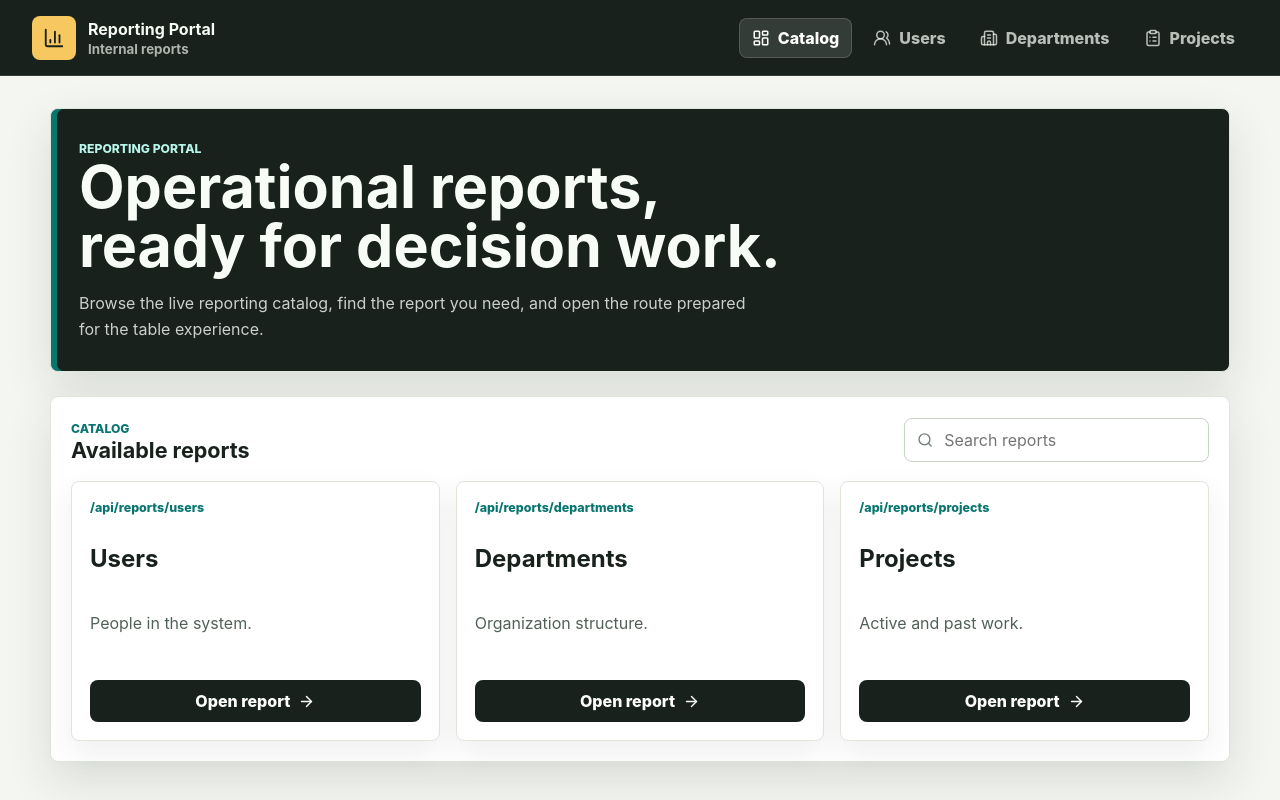
Test: AppShell › shows a useful state when no reports match the search
Expected: the heading "Users" is shown, top-left (90, 544), bottom-right (158, 573)
Type "finance" into the search field named "Search reports by name" at (1069,440), box top-left (942, 419), bottom-right (1196, 461)
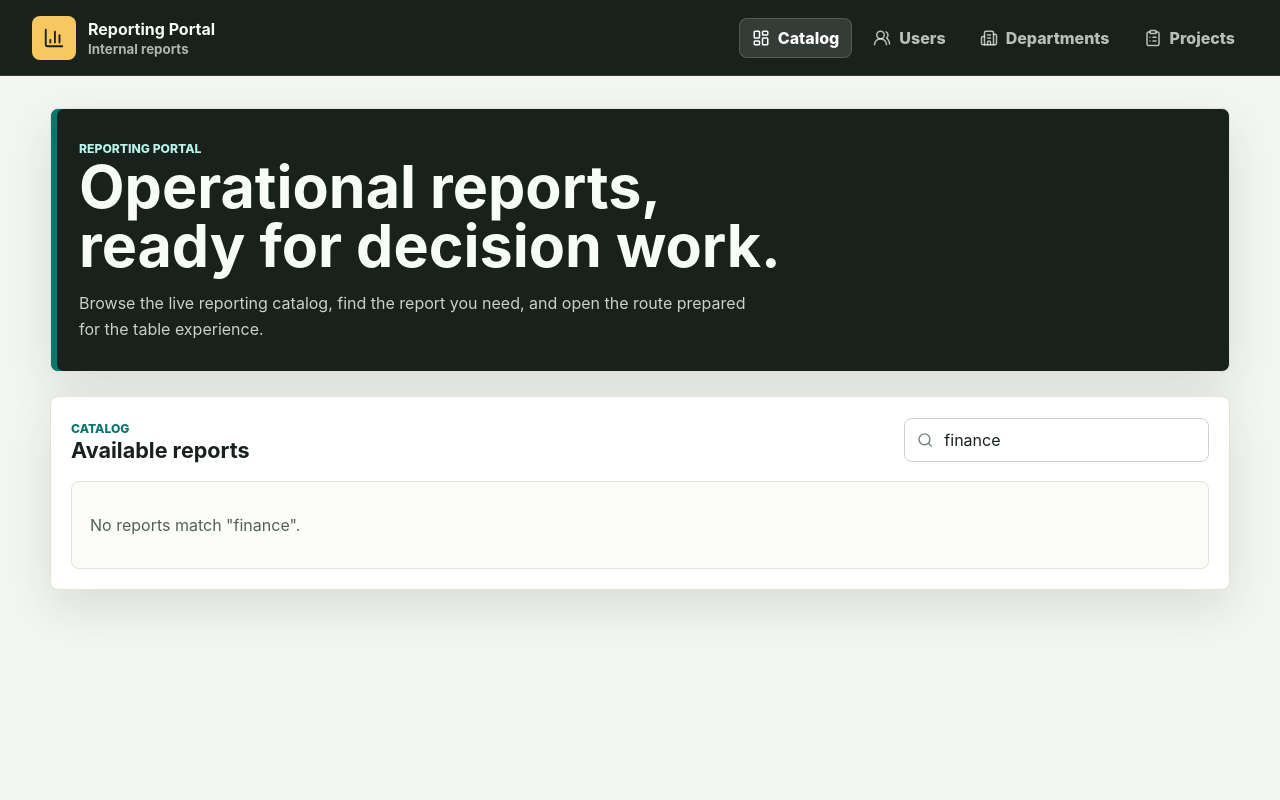
Now the text "No reports match \"finance\"." is shown, box top-left (71, 481), bottom-right (1209, 569)
